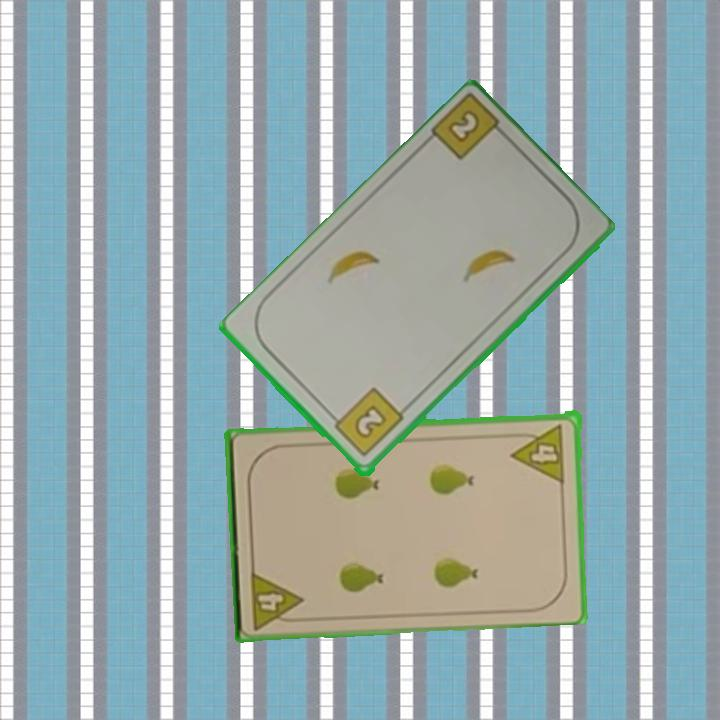2b: (326, 384, 407, 460), (427, 93, 513, 164)
4p: (247, 567, 308, 632), (509, 419, 568, 484)
